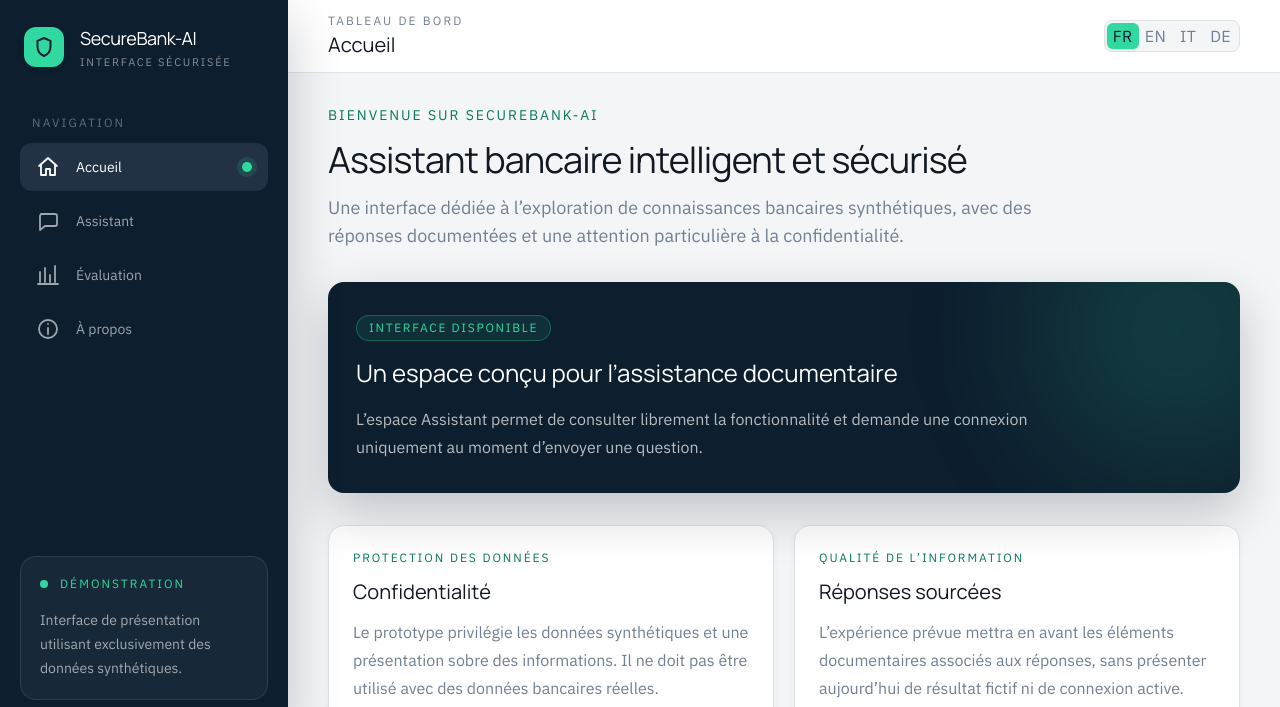
Test: internationalization › displays four radio segments and selects German immediately
Click the button with aria-label "Deutsch".
click(1221, 36)  # box [1204,23,1237,49]
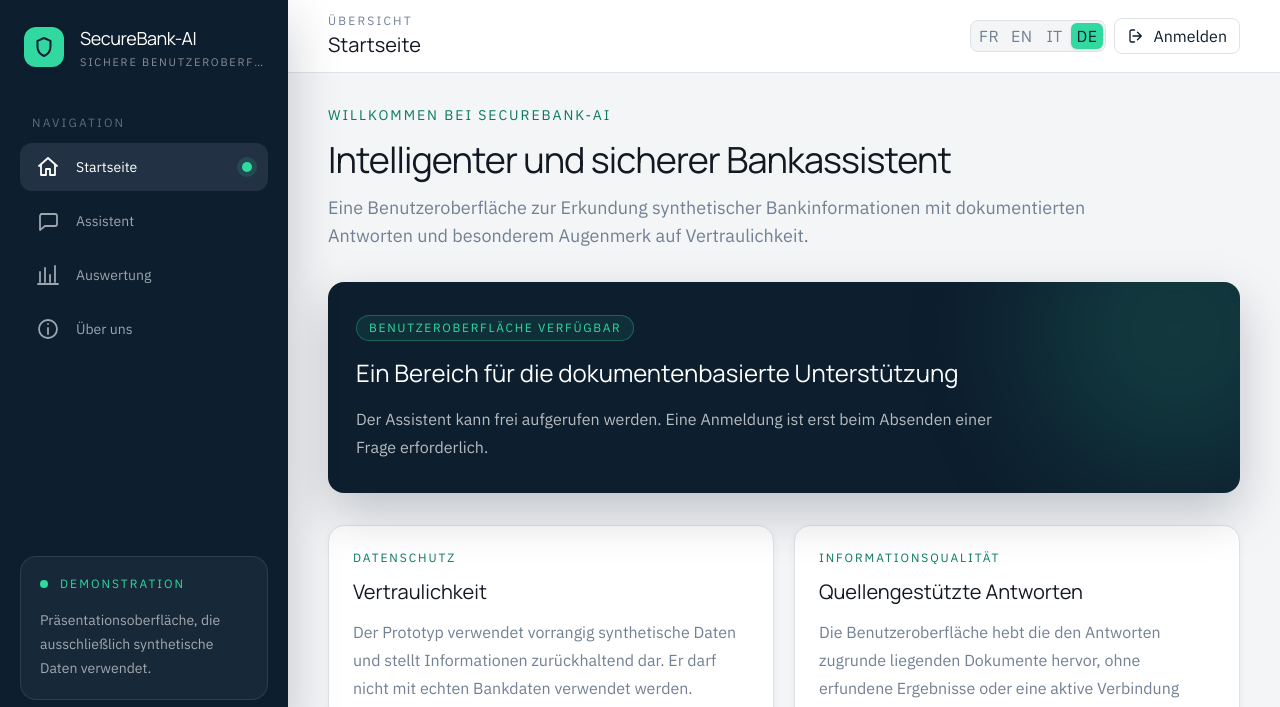
Now the heading "Intelligenter und sicherer Bankassistent" is shown, box [328,135,951,184]
